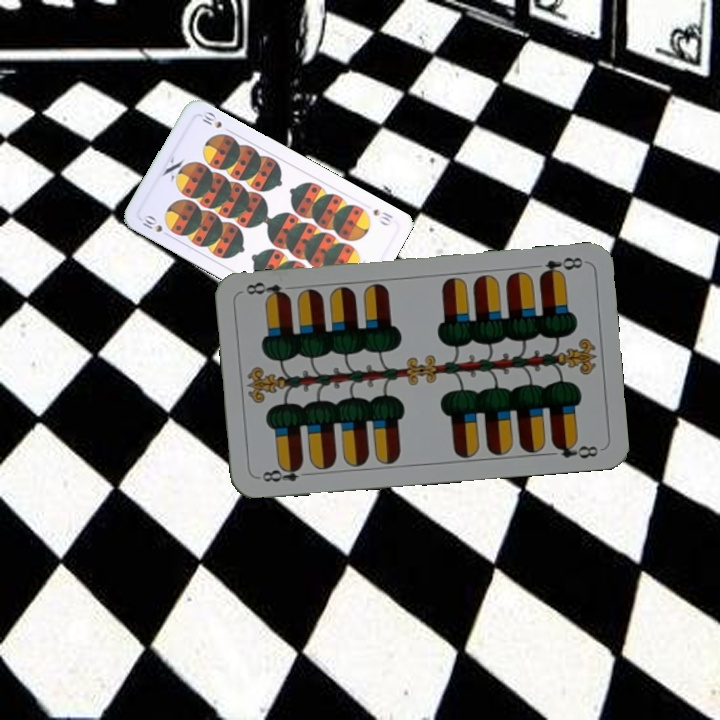E8: (255, 460, 314, 485), (535, 253, 585, 280)
S10: (138, 210, 174, 240), (369, 205, 395, 229)
